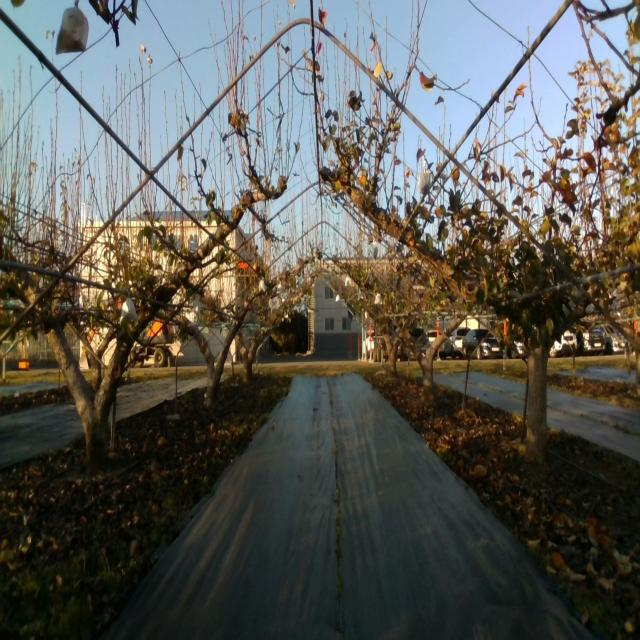pearbags: (55, 7, 90, 57), (120, 297, 139, 327), (418, 168, 431, 198)
